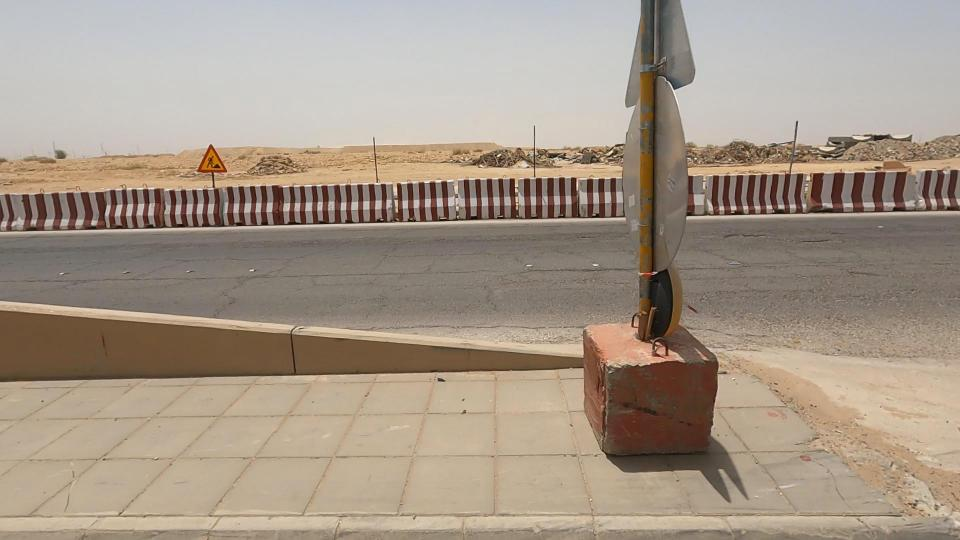CONSTRUCTION_ROAD: (347, 119, 911, 290), (214, 155, 562, 271), (36, 129, 319, 258), (726, 137, 960, 249)
GARBAGE: (510, 114, 664, 190), (435, 112, 554, 194)
